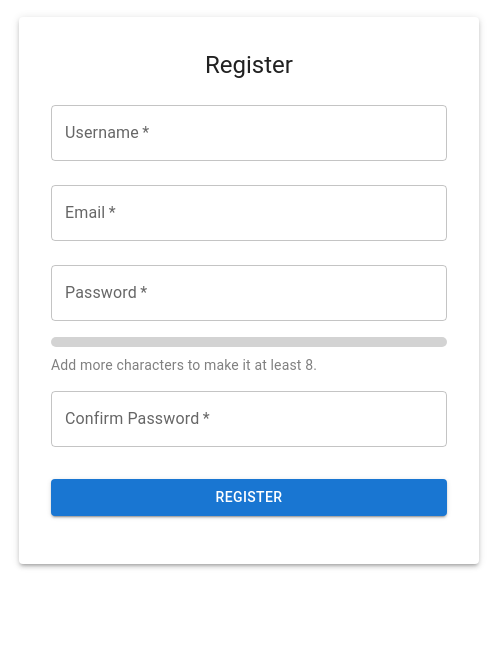
Registration Component Tests › should display an error message if registration fails other than email or username exists
Type "testuser" into the field labelled "Username *" at (249, 133), box [51,105,447,161]
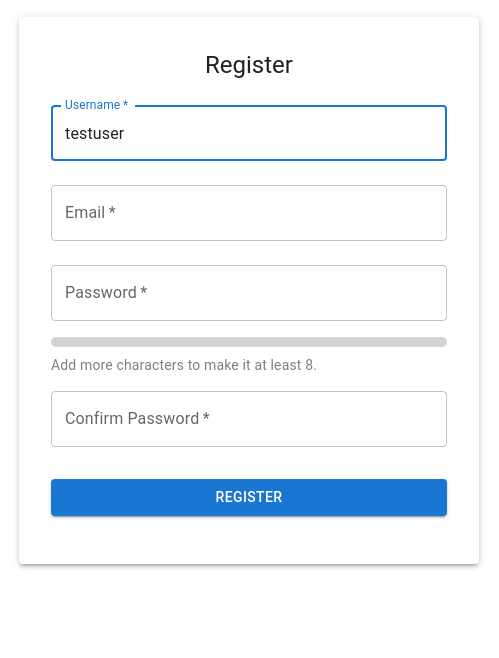
Type "testuser@bu.edu" into the field labelled "Email *" at (249, 213), box [51,185,447,241]
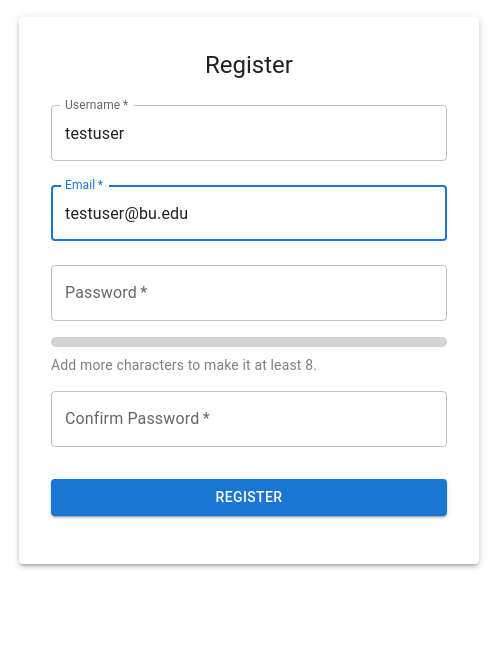
Type "Password123!" into the password field labelled "Password *" at (249, 293), box [51,265,447,321]
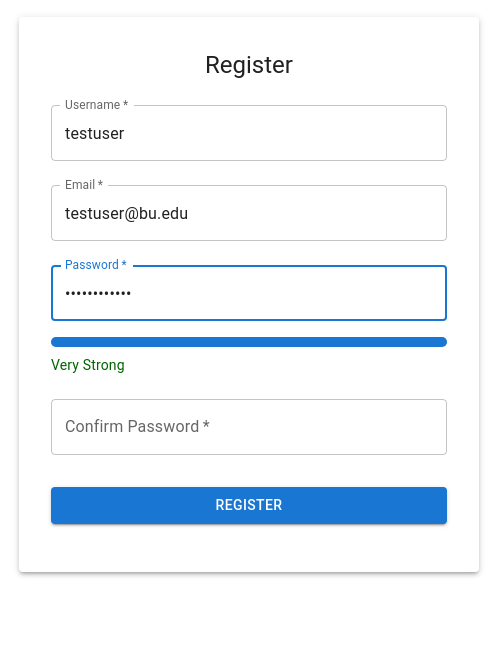
Type "Password123!" into the password field labelled "Confirm Password *" at (249, 427), box [51,399,447,455]
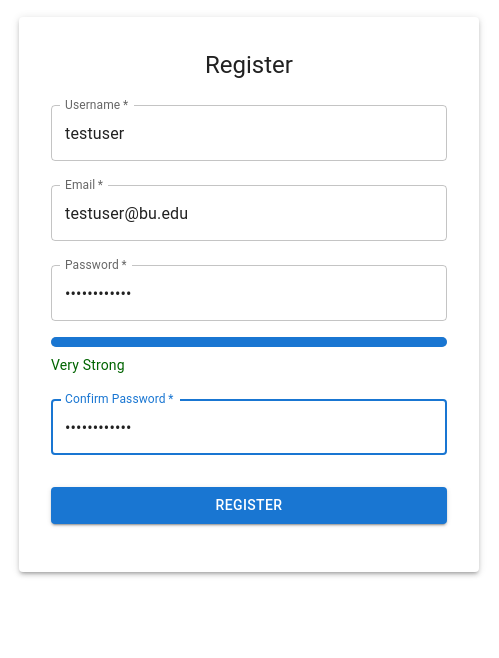
Click the button "Register" at (249, 506), box [51,487,447,524]
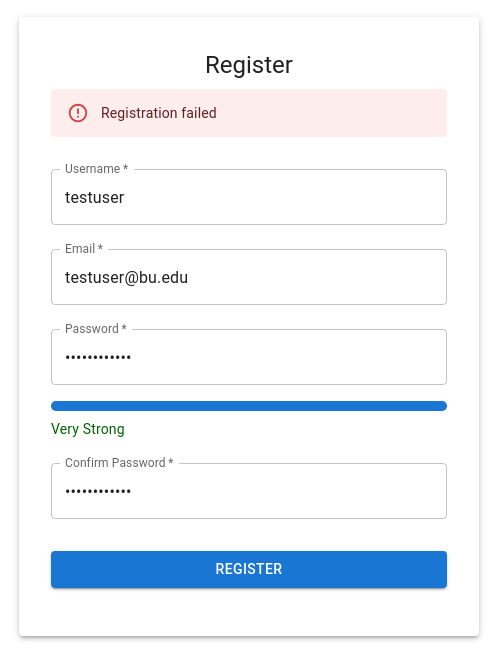
Result: the text "Registration failed" is shown at [101,105,217,121]
